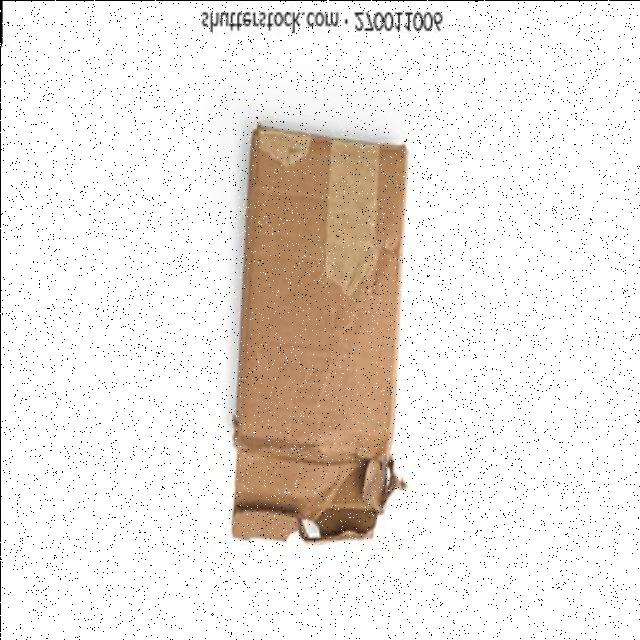defect: (228, 122, 423, 547)
